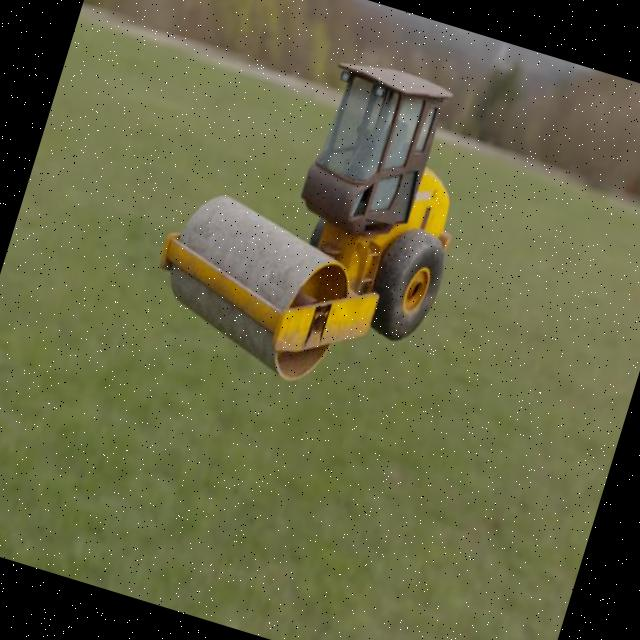Roller: (136, 18, 497, 414)
